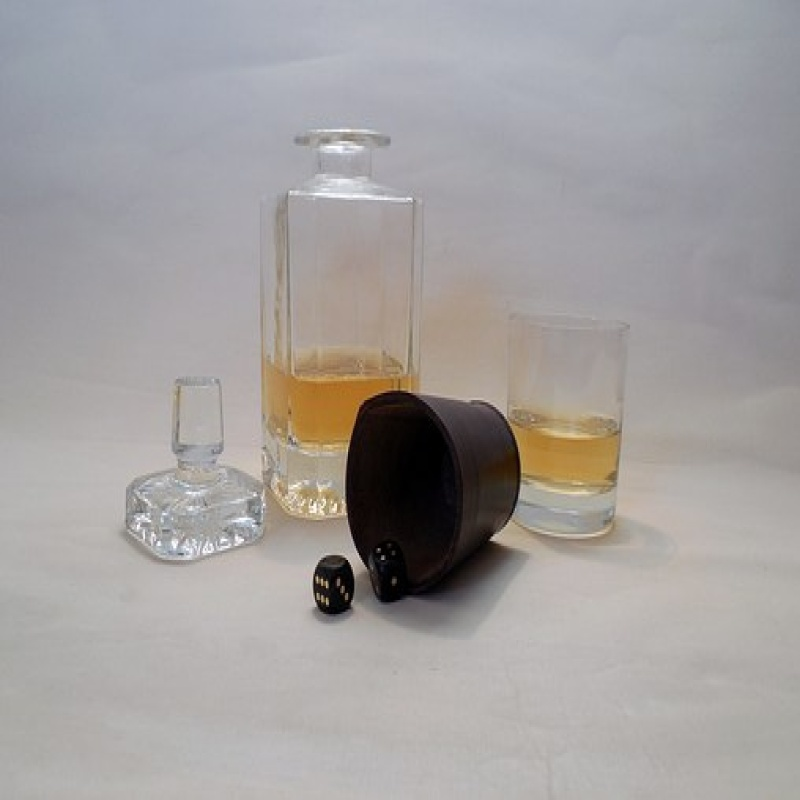whiskey: (512, 303, 634, 554)
